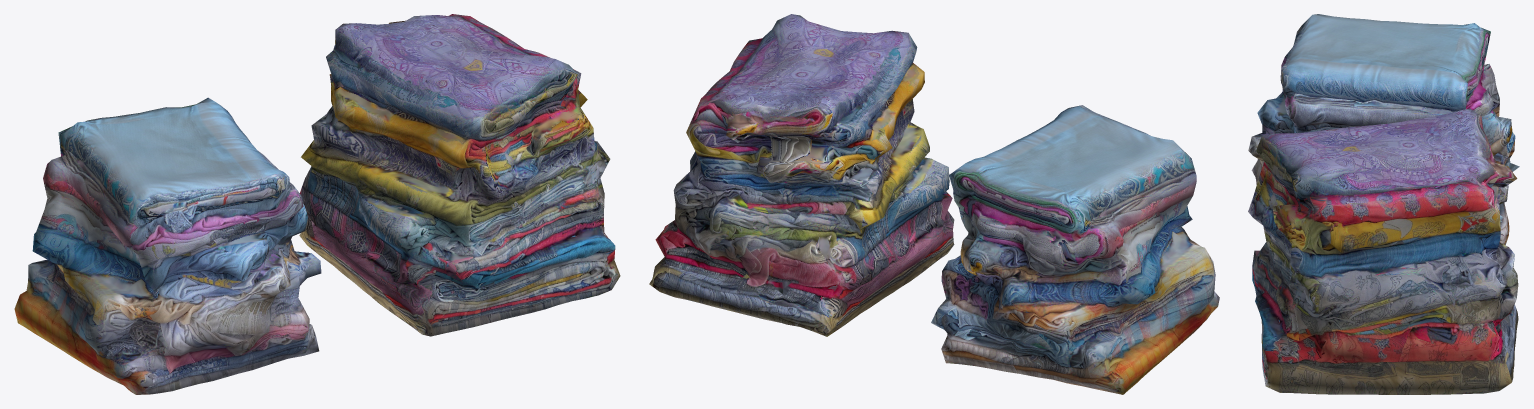
File: pile_of_clothes_2.glb
3 renders of one model, left to right at view 1: azimuth 30°, elevation 25°; view 2: azimuth 150°, elevation 25°; view 3: azimuth 270°, elevation 25°, orthographic. The views are drawn at different scales.
Visible parts, largest first — view 1: PileofClothes4, PileofClothes3; view 2: PileofClothes4, PileofClothes3; view 3: PileofClothes4, PileofClothes3.
Boxes of the visible parts, <box> form: PileofClothes4: <box>299,14,620,336</box>; PileofClothes3: <box>14,97,321,394</box>; PileofClothes4: <box>649,14,954,336</box>; PileofClothes3: <box>931,105,1219,394</box>; PileofClothes4: <box>1248,108,1518,394</box>; PileofClothes3: <box>1248,14,1519,245</box>.
Bounding box in the file's own units: 0.6741 × 0.2898 × 0.3353.
Materials: 2 (2 with a texture image).
